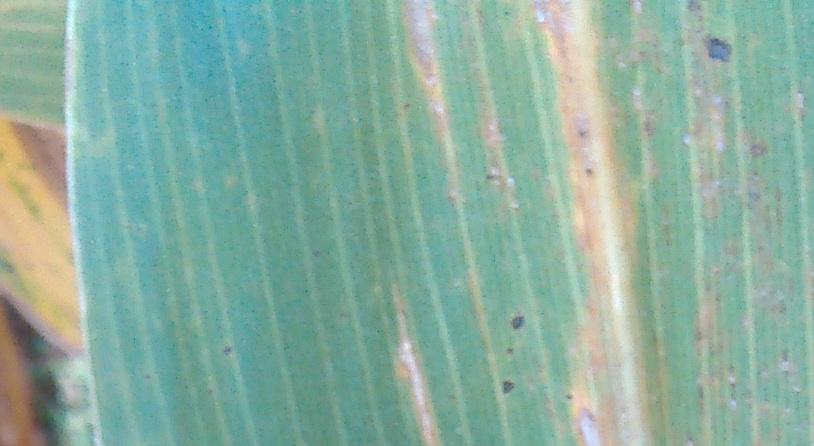tarspot: (704, 33, 734, 65), (510, 314, 526, 333), (500, 378, 517, 395), (219, 341, 235, 358), (485, 169, 501, 184), (686, 1, 703, 15), (561, 389, 577, 402), (503, 344, 517, 358), (500, 4, 513, 19), (582, 165, 595, 179), (310, 247, 324, 259), (576, 129, 588, 140), (402, 98, 412, 110)
